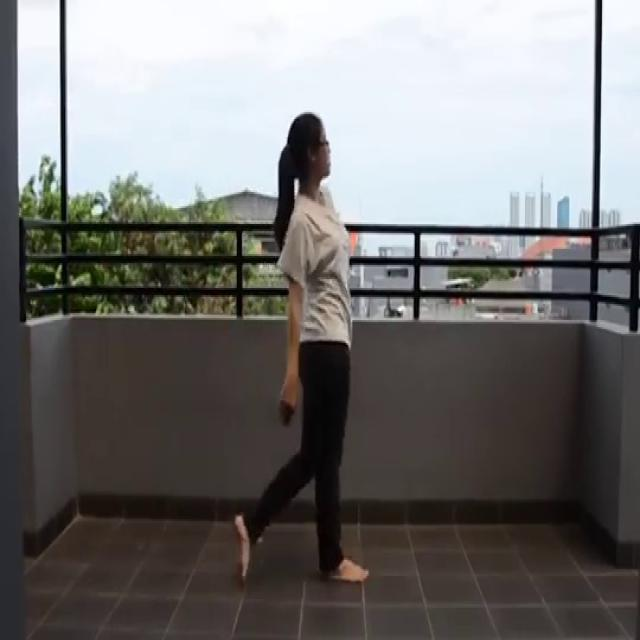normal: (235, 105, 378, 590)
